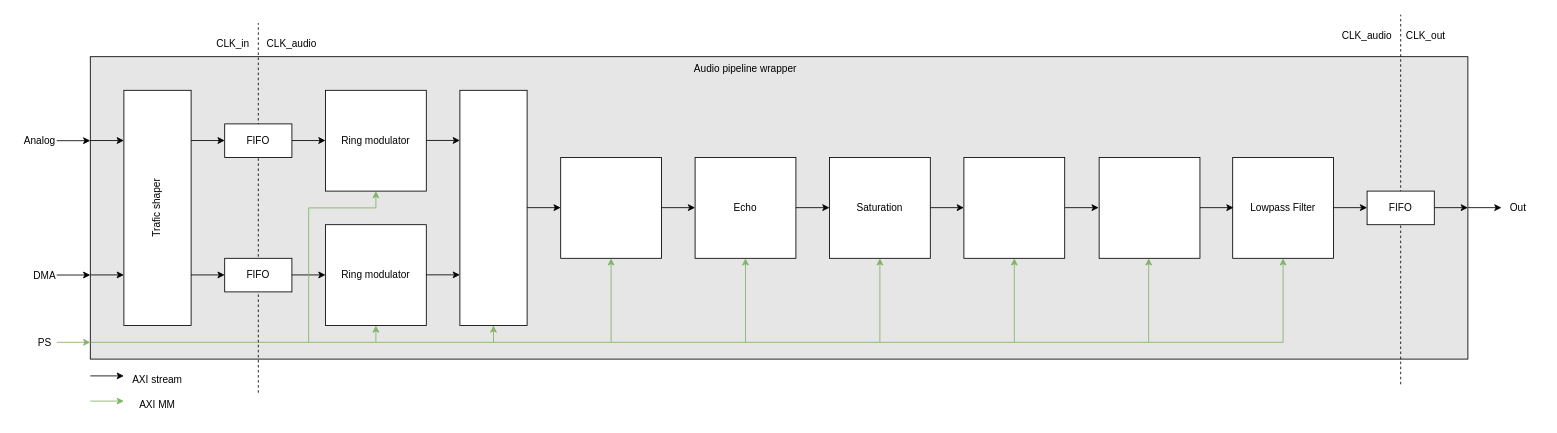
This 1557x433 diagram has some shape labels left out. Each missing label, with the centre of its shape:
Channel merger: point (493, 207)
Channel Mixer: point (1014, 207)
EQ filter: point (611, 207)
Master Volume: point (1149, 207)
